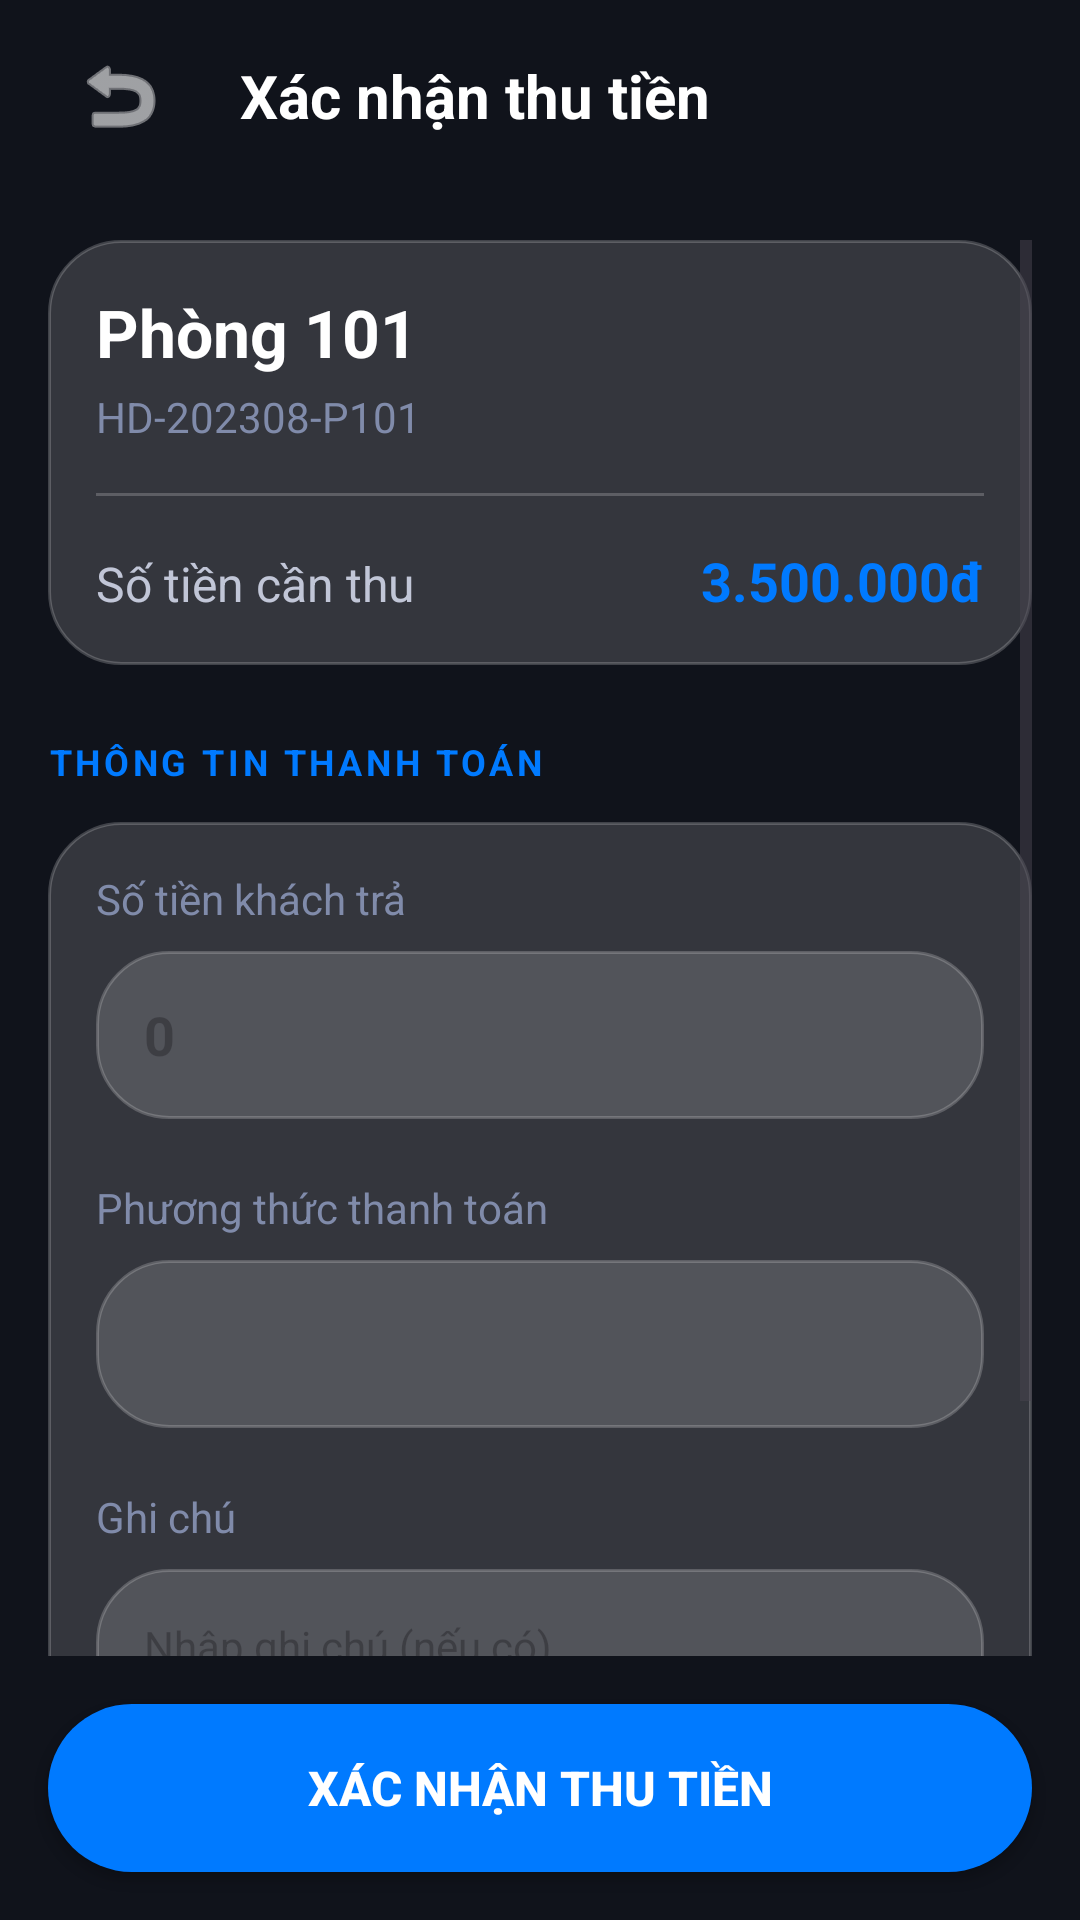

Icons on this 1080×1920 Android screen, each with its box as (x1, y1, x2, y2):
revert: (87, 65, 156, 128)
